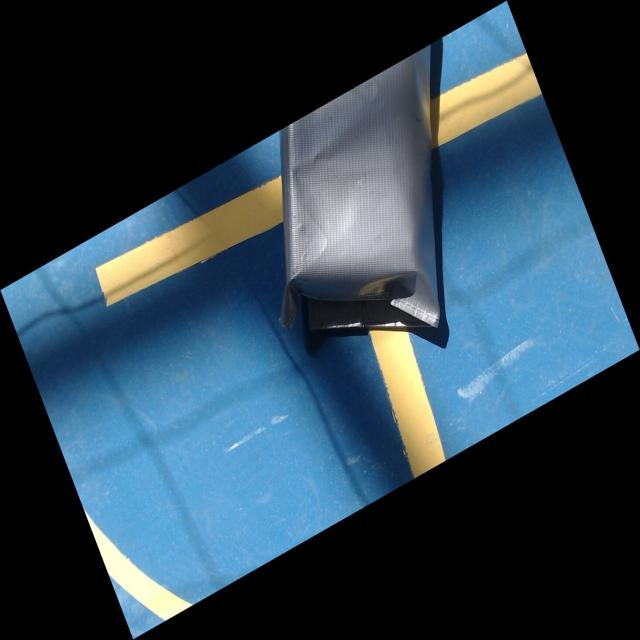vertical: (281, 48, 439, 330)
